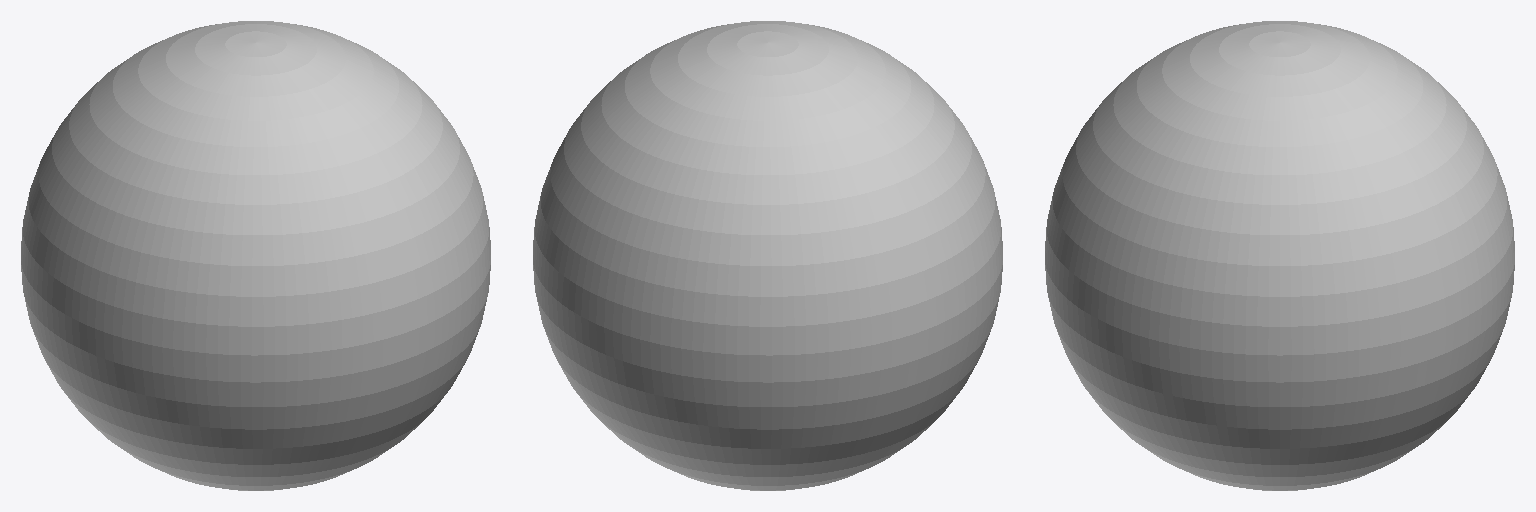
File: sun.obj
3 renders of one model, left to right at view 1: azimuth 30°, elevation 25°; view 2: azimuth 150°, elevation 25°; view 3: azimuth 270°, elevation 25°, orthographic.
Parts seen in each view (by area): view 1: Sphere_Sphere.006; view 2: Sphere_Sphere.006; view 3: Sphere_Sphere.006.
Part boxes in pixels (bbox=[...]): Sphere_Sphere.006: bbox=[21, 21, 490, 490]; Sphere_Sphere.006: bbox=[533, 21, 1002, 490]; Sphere_Sphere.006: bbox=[1045, 21, 1514, 490].
Bounding box in the file's own units: 20 × 20 × 20.